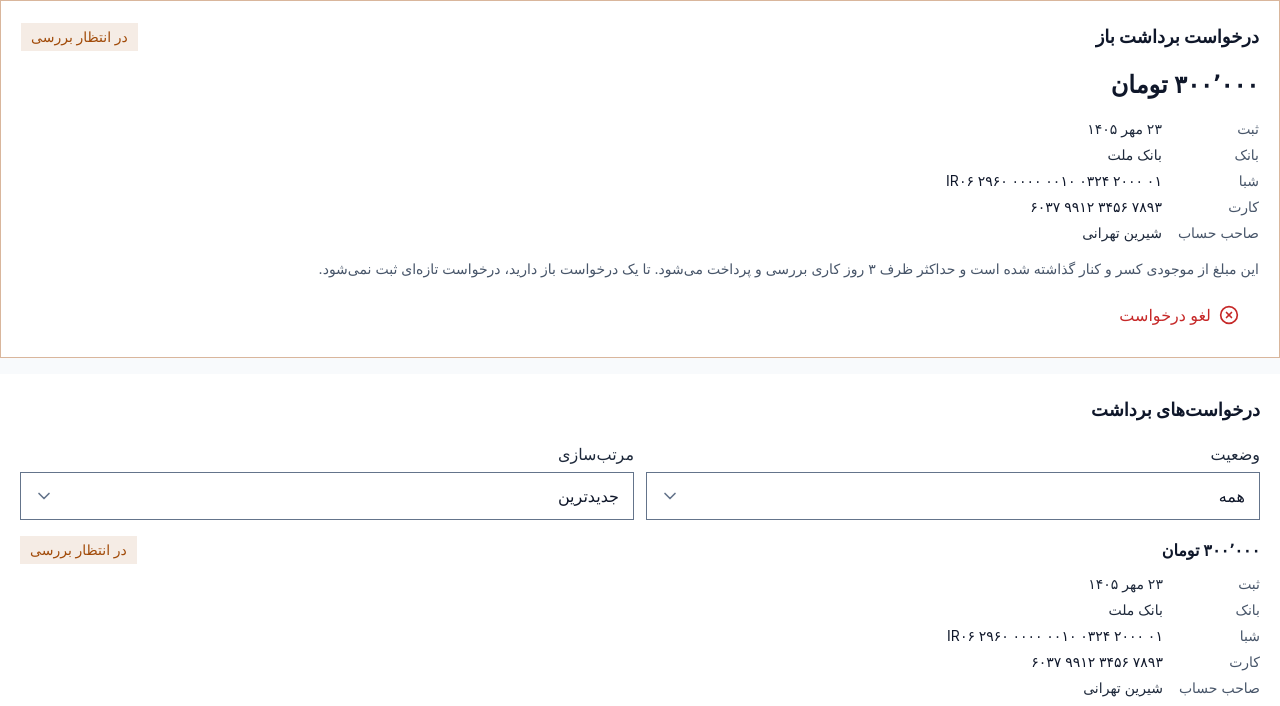
Test: the open request › cancelled: the focus goes to the requests’ heading (never <body>)
The image size is (1280, 706).
Click the button "لغو درخواست" at (1179, 315), box left=1099, top=293, right=1259, bottom=337
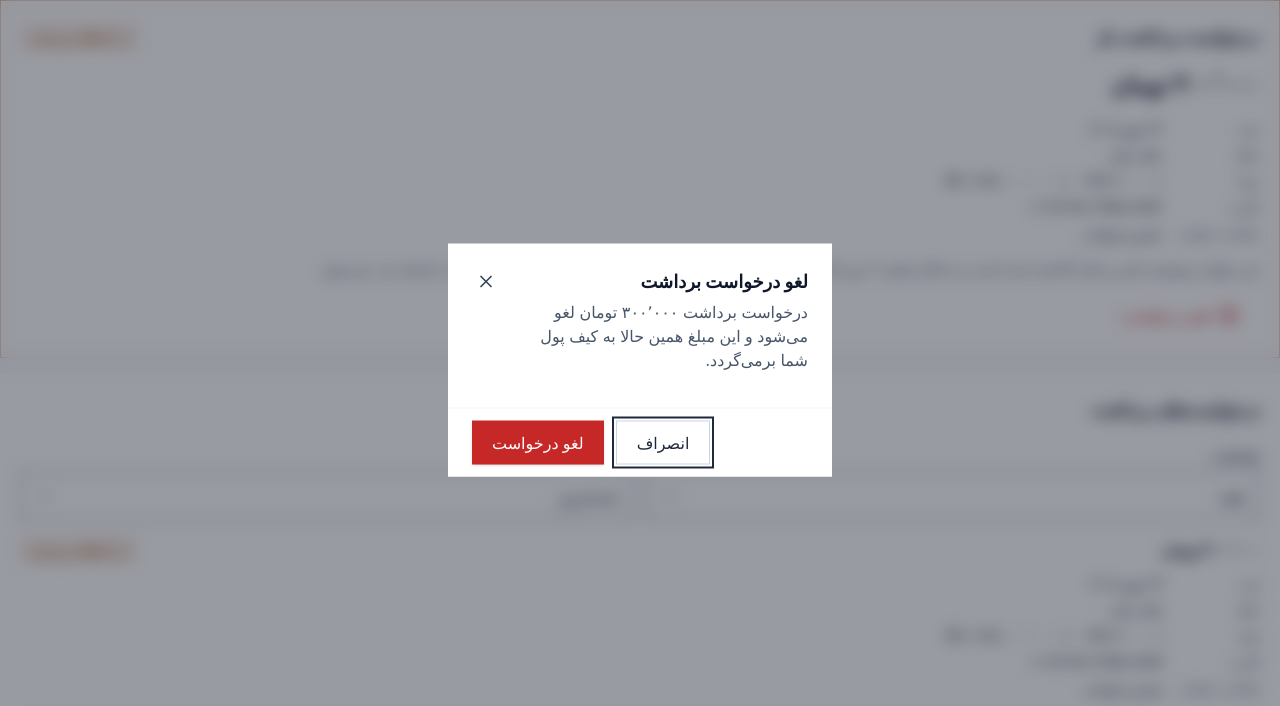
Click the button "لغو درخواست" at (538, 442), box left=472, top=420, right=604, bottom=464
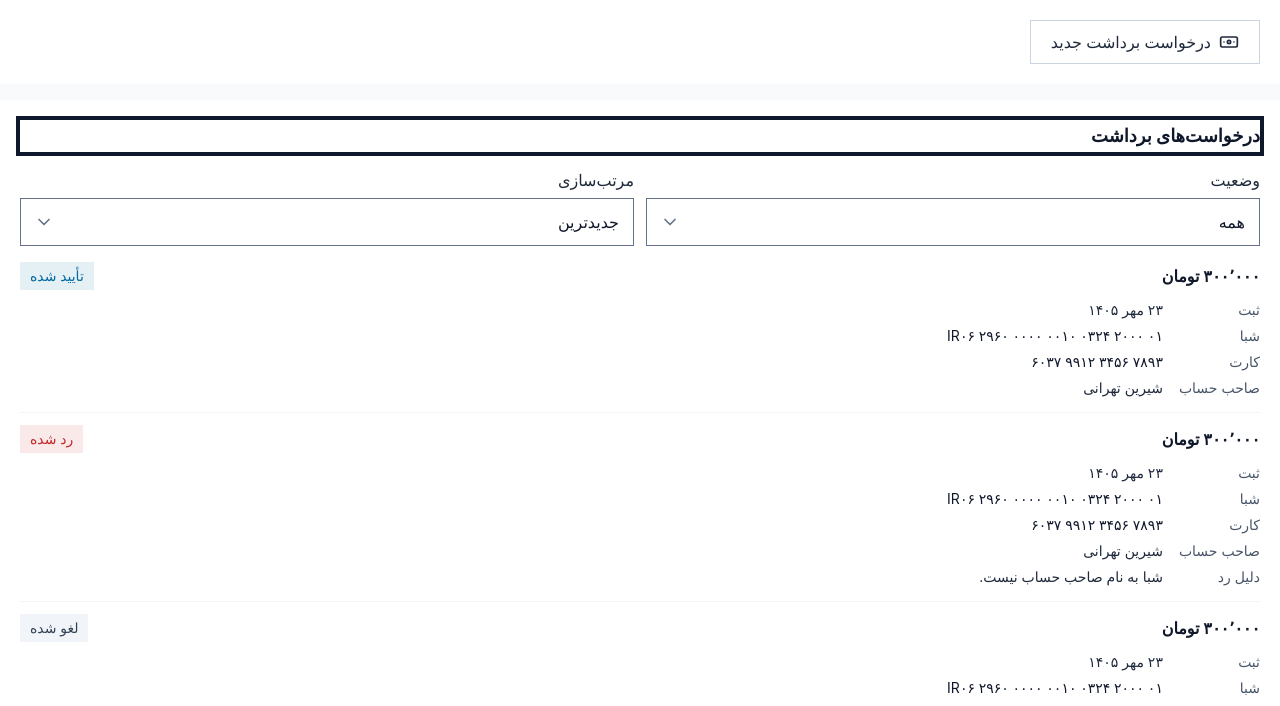
Expected: the dialog is gone
